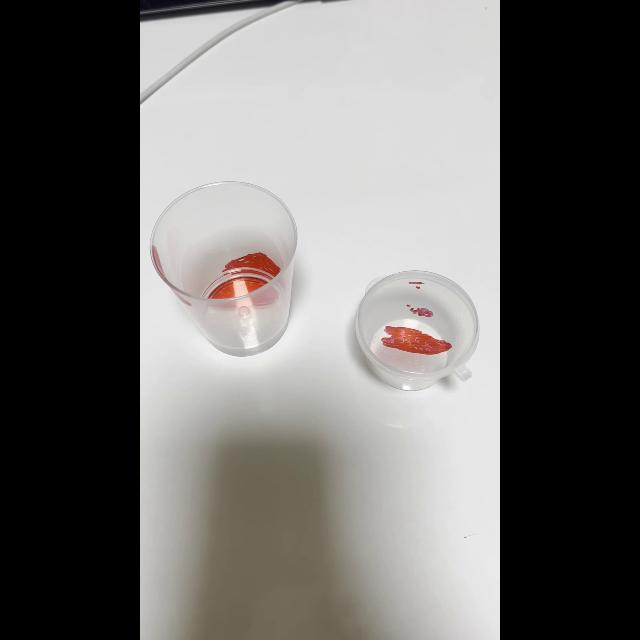dirty: (152, 183, 296, 347), (362, 264, 486, 396)
